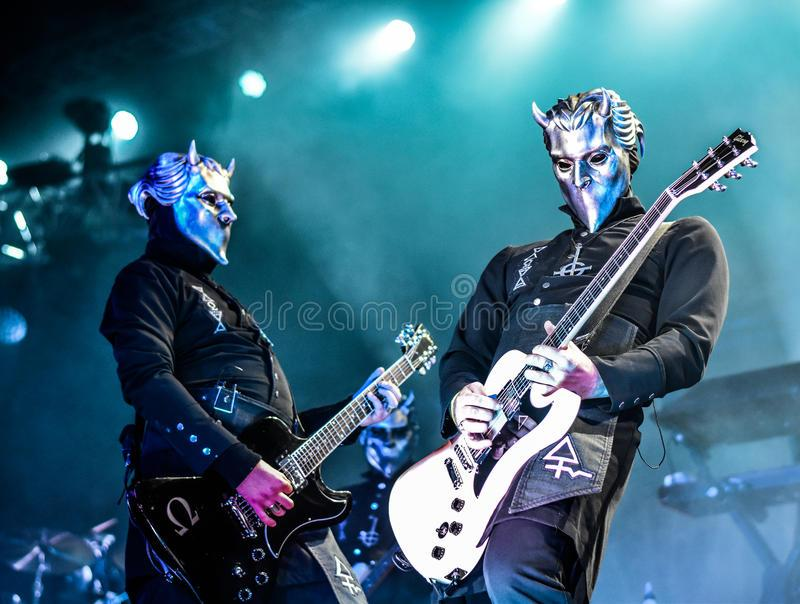acousticguitar: (388, 128, 761, 593), (126, 322, 436, 594)
